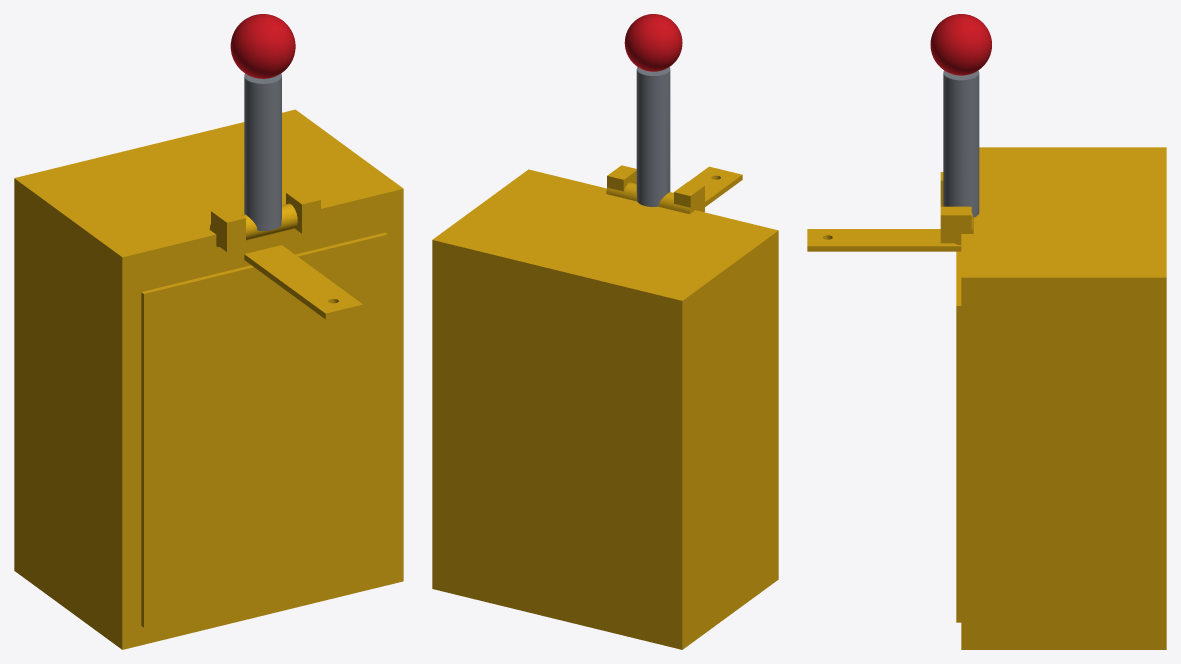
File: Seccionador.fbx
3 views of the same model, side by side, from view 1: azimuth 30°, elevation 25°; view 2: azimuth 150°, elevation 25°; view 3: azimuth 270°, elevation 25° (orthographic). The views are drawn at different scales.
Visible parts, largest first — view 1: Box, Handle; view 2: Box, Handle; view 3: Box, Handle.
Part boxes in pixels (left/top/right/bottom): Box: left=14, top=109, right=403, bottom=649; Handle: left=230, top=14, right=295, bottom=230; Box: left=432, top=165, right=778, bottom=649; Handle: left=624, top=14, right=682, bottom=206; Box: left=807, top=147, right=1166, bottom=649; Handle: left=930, top=14, right=991, bottom=217.
Size of the model in its own units: 0.3 by 0.6099 by 0.35.
